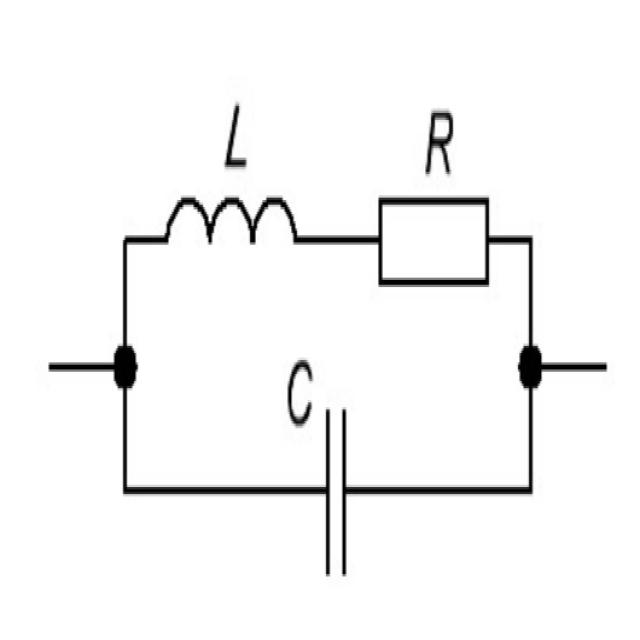cap: (323, 402, 354, 587)
ind: (160, 190, 304, 254)
net: (118, 474, 331, 504), (339, 475, 540, 504), (288, 219, 386, 256), (119, 219, 171, 255), (482, 223, 536, 252)
net_node: (112, 228, 138, 508), (518, 226, 542, 506), (517, 335, 606, 395), (46, 345, 141, 392)
res: (376, 192, 494, 290)
